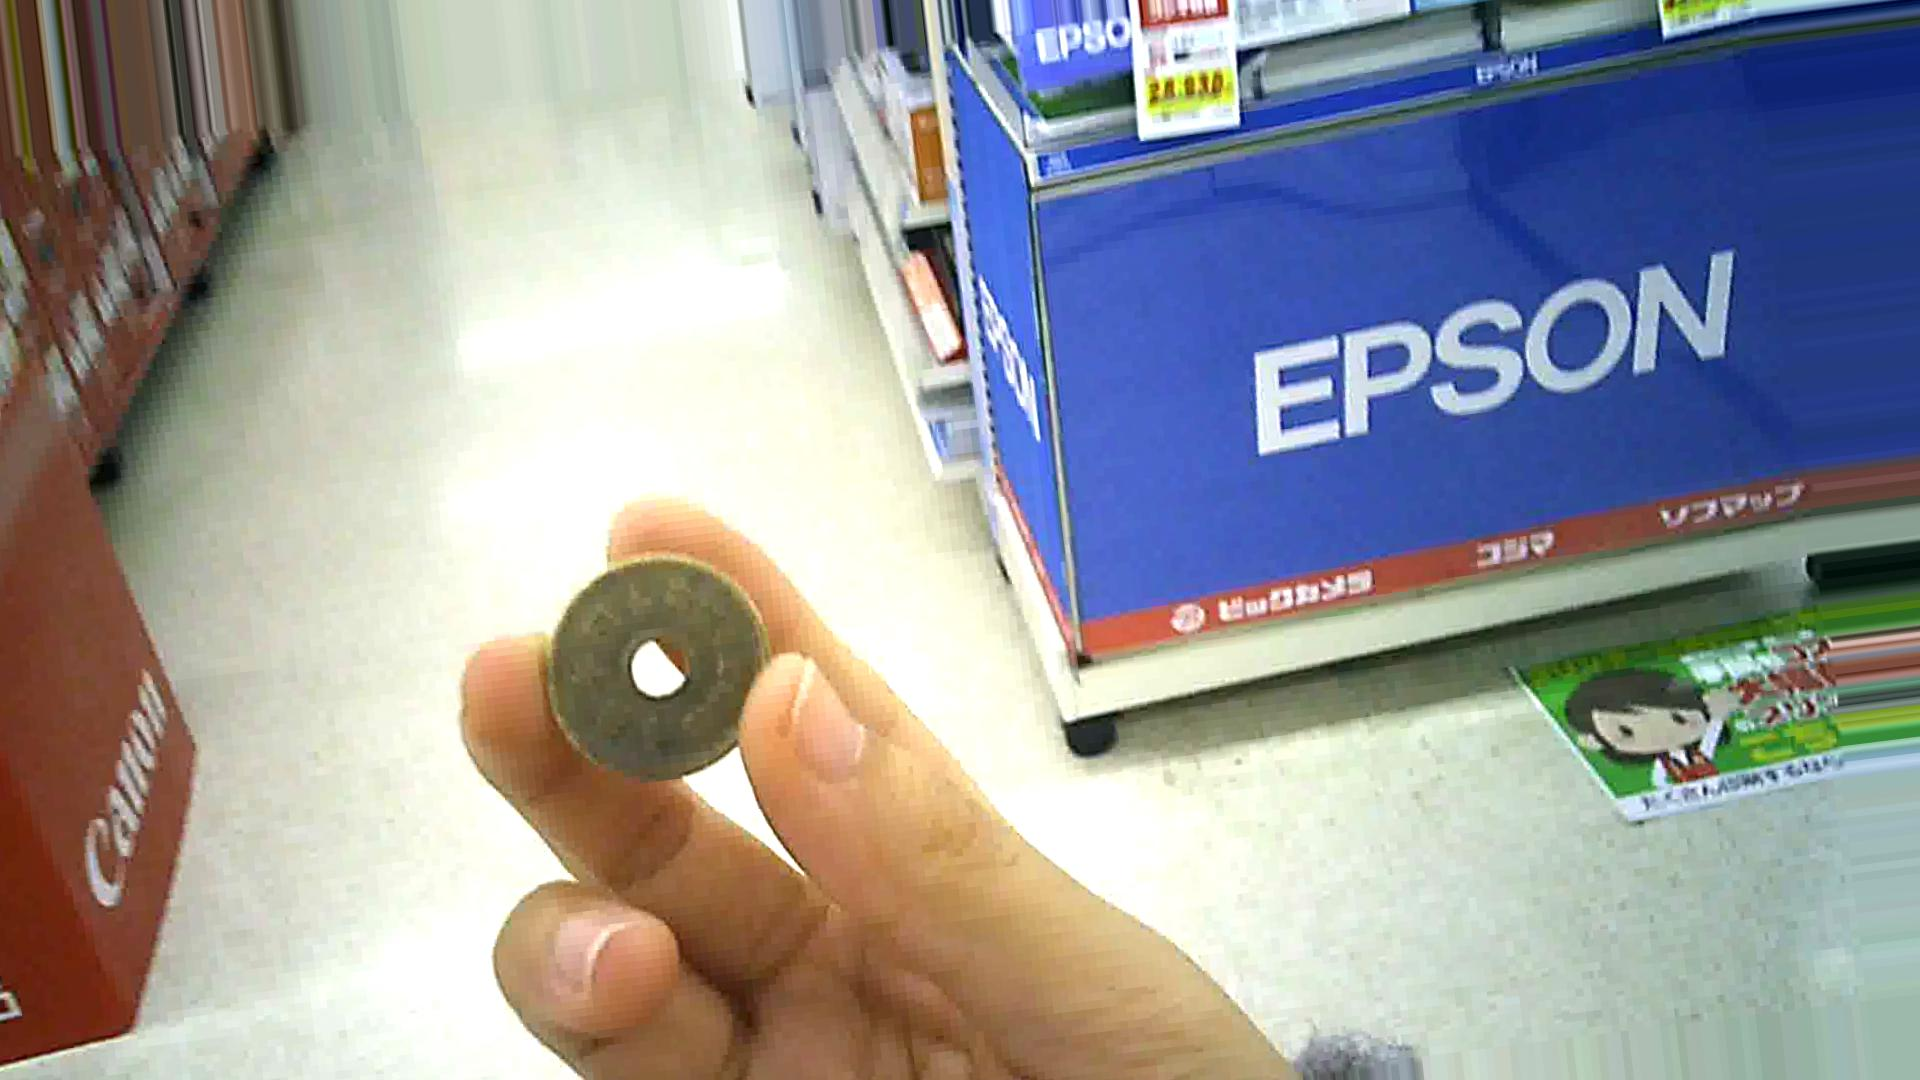5 Yen: (553, 556, 779, 793)
